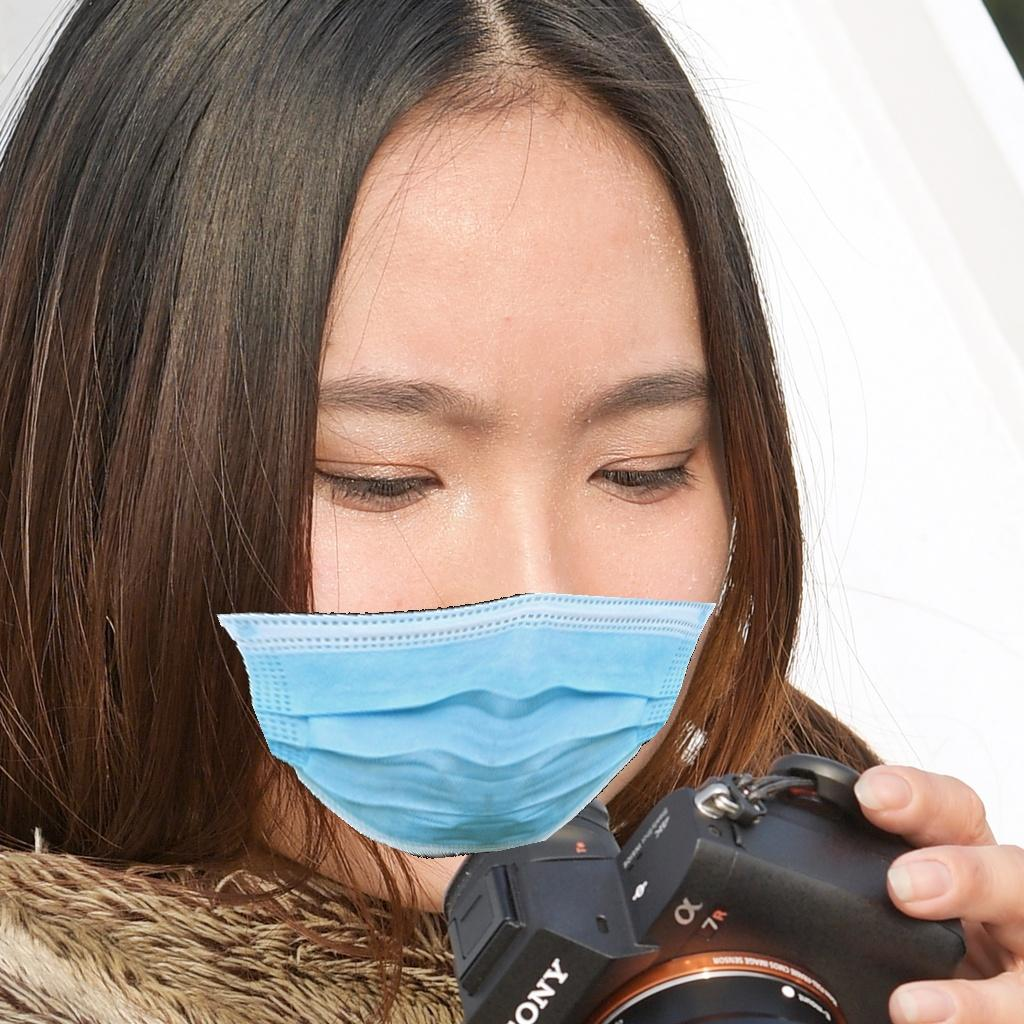Com Máscara: (183, 220, 772, 890)
